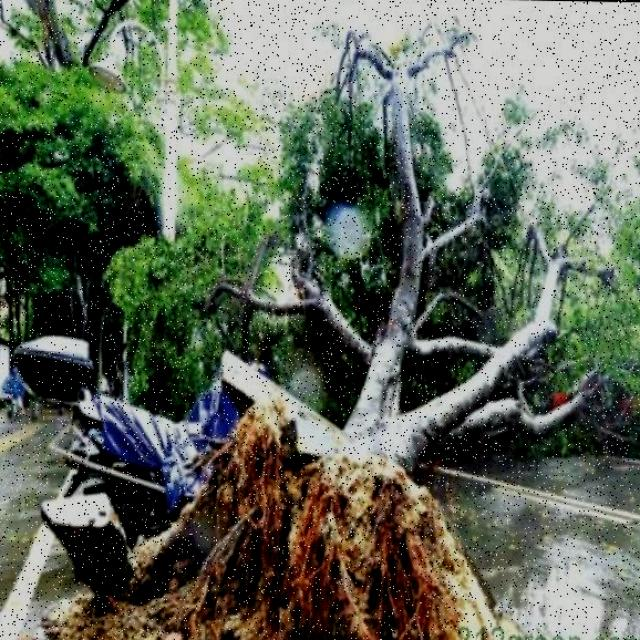fallen_object: (118, 9, 612, 640)
